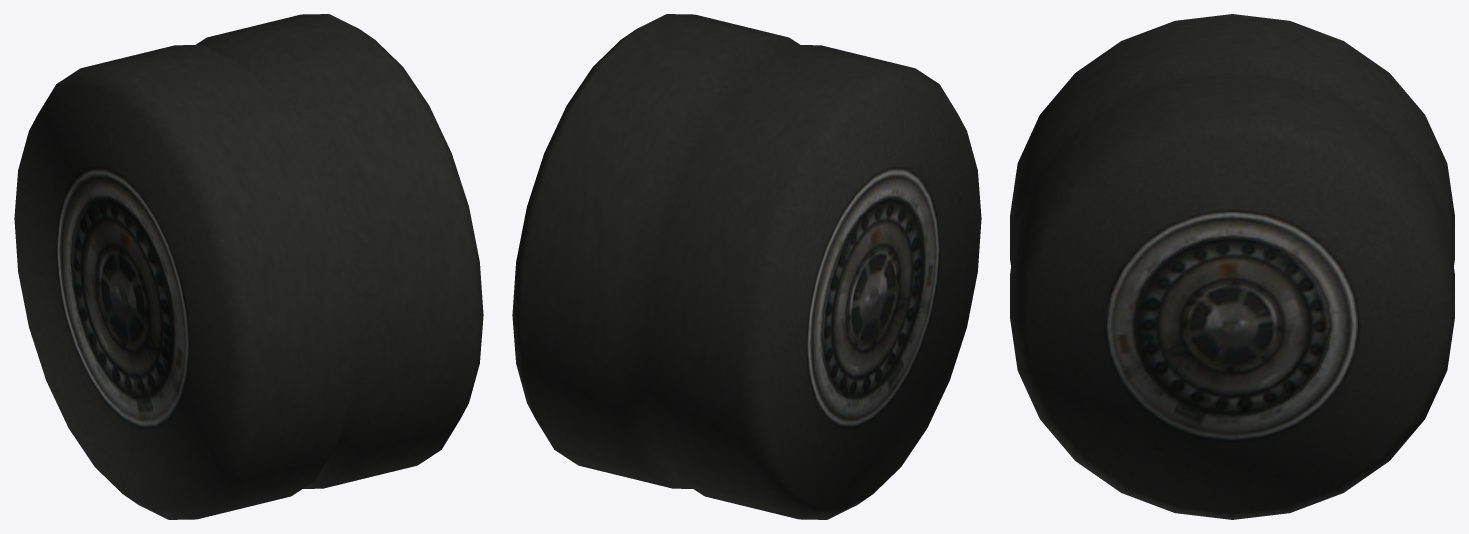
Rendered from flugzeug_doppelreifen.fbx.
3 renders of one model, left to right at view 1: azimuth 30°, elevation 25°; view 2: azimuth 150°, elevation 25°; view 3: azimuth 270°, elevation 25°, orthographic. The views are drawn at different scales.
Parts seen in each view (by area): view 1: reifen; view 2: reifen; view 3: reifen.
Part boxes in pixels (x1,y1,x2,y2): reifen: (14,14,483,519); reifen: (512,14,981,519); reifen: (1010,14,1454,519).
Bounding box in the file's own units: 41.67 × 66.64 × 66.64.
